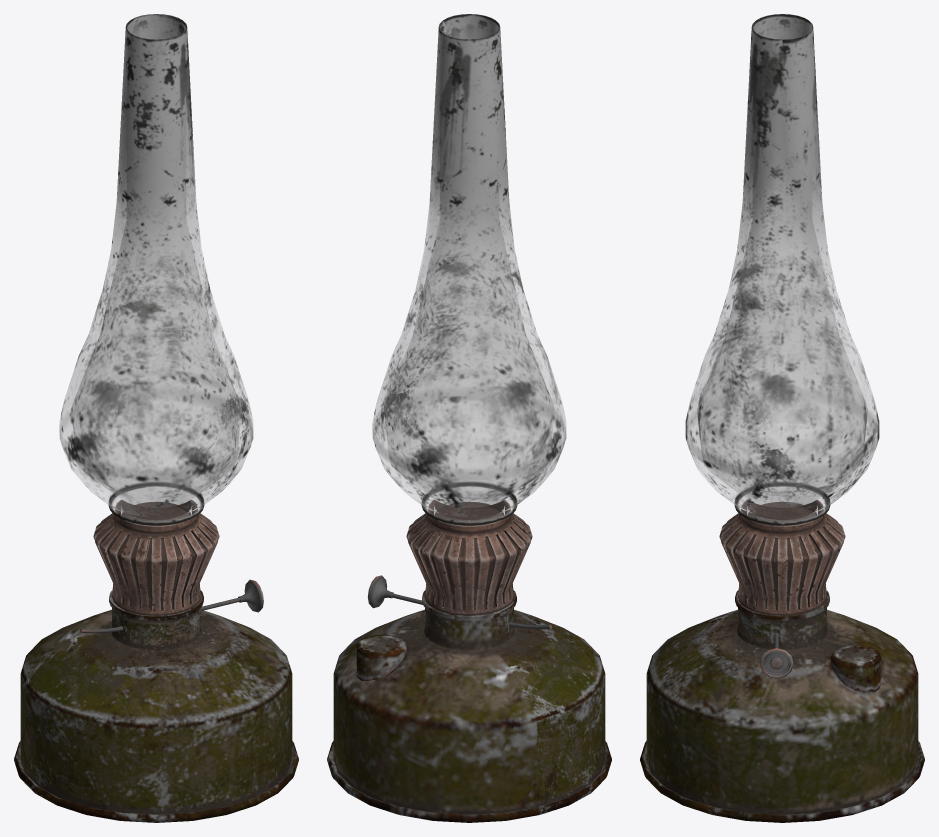
The model's file is rusty_kerosene_lamp.glb.
The picture shows the model from 3 angles, left to right: view 1: azimuth 30°, elevation 25°; view 2: azimuth 150°, elevation 25°; view 3: azimuth 270°, elevation 25°; orthographic projection.
Parts seen in each view (by area): view 1: KeroseneLamp1; view 2: KeroseneLamp1; view 3: KeroseneLamp1.
Boxes of the visible parts, x1=… form: KeroseneLamp1: x1=14, y1=14, x2=298, y2=822; KeroseneLamp1: x1=327, y1=14, x2=611, y2=822; KeroseneLamp1: x1=640, y1=14, x2=924, y2=822.
Bounding box in the file's own units: 0.1323 × 0.3778 × 0.1323.
1 material, 1 textured.
